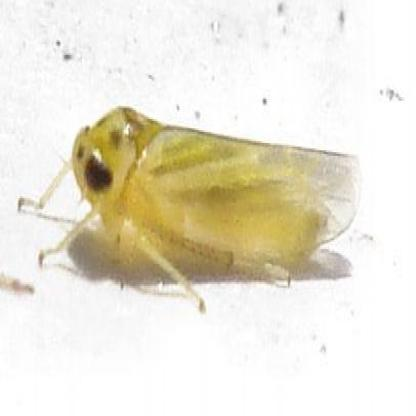green-leafhopper: (68, 116, 350, 274)
